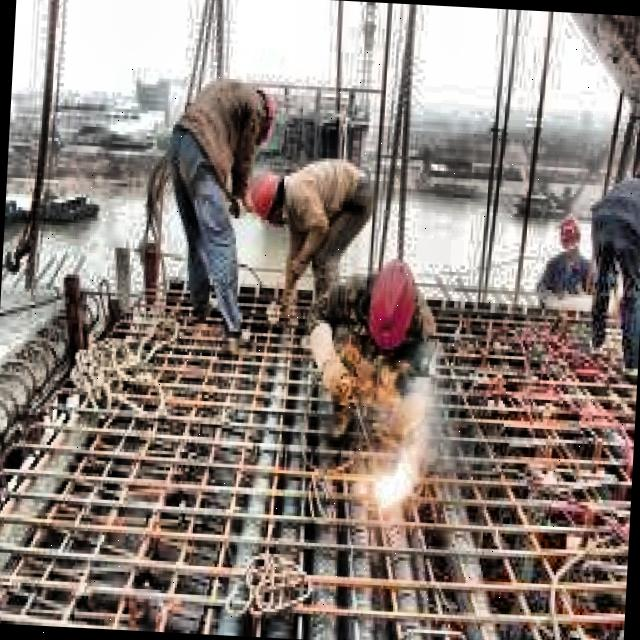helmet: (357, 250, 427, 360), (245, 168, 298, 228), (243, 83, 281, 146), (554, 212, 588, 262)
